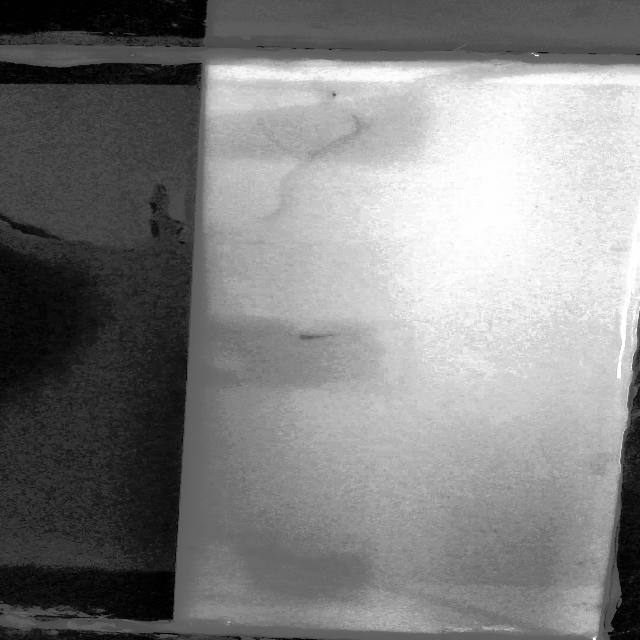shrimp: (292, 330, 324, 344), (180, 542, 208, 555), (323, 89, 340, 101)
